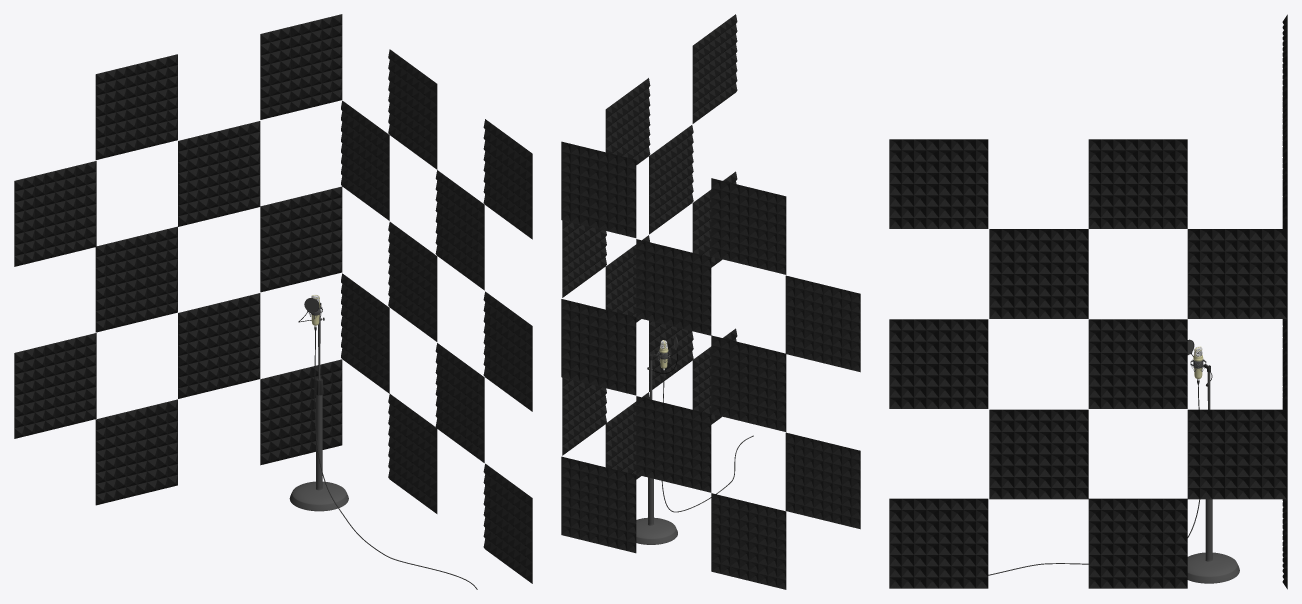
Rendered from studio_microphone.glb.
3 renders of one model, left to right at view 1: azimuth 30°, elevation 25°; view 2: azimuth 150°, elevation 25°; view 3: azimuth 270°, elevation 25°, orthographic. The views are drawn at different scales.
Visible parts, largest first — view 1: foam.003, foam.002, foam.004, foam.014, foam.015, foam.016, foam.017, foam.001, foam.005, foam, foam.007, foam.018 (+9 smaller); view 2: foam, foam.001, foam.003, foam.005, foam.002, foam.014, foam.015, foam.016, foam.017, foam.004, foam.019, foam.008 (+9 smaller); view 3: foam.010, foam.011, foam.013, foam.009, foam.006, foam.007, foam.008, foam.012, foam.018, foam.019, mic_stand_base, foam.016 (+2 smaller).
Part boxes in pixels (x1,y1,x2,y2): foam.003: (260, 186, 342, 292); foam.002: (95, 399, 177, 505); foam.004: (95, 226, 177, 332); foam.014: (14, 333, 96, 438); foam.015: (14, 161, 96, 266); foam.016: (260, 14, 342, 119); foam.017: (95, 54, 177, 159); foam.001: (178, 293, 260, 398); foam.005: (178, 121, 260, 226); foam: (260, 359, 342, 465); foam.007: (388, 222, 437, 341); foam.018: (388, 49, 437, 169); foam: (561, 456, 636, 553); foam.001: (636, 396, 711, 492); foam.003: (561, 299, 636, 395); foam.005: (636, 239, 711, 335); foam.002: (711, 493, 786, 589); foam.014: (785, 432, 860, 529); foam.015: (785, 275, 860, 372); foam.016: (561, 141, 636, 237); foam.017: (711, 178, 786, 274); foam.004: (711, 335, 786, 431); foam.019: (692, 14, 737, 123); foam.008: (649, 125, 693, 234); foam.010: (989, 409, 1088, 499); foam.011: (1088, 498, 1187, 588); foam.013: (889, 498, 988, 588); foam.009: (1187, 409, 1286, 499); foam.006: (1187, 229, 1286, 318); foam.007: (1088, 319, 1187, 408); foam.008: (989, 229, 1088, 318); foam.012: (889, 319, 988, 408); foam.018: (1088, 139, 1187, 228); foam.019: (889, 139, 988, 228); mic_stand_base: (1187, 372, 1239, 583); foam.016: (1282, 98, 1287, 228).
Bounding box in the file's own units: 2.66 × 3.43 × 2.68.
Materials: 9 (1 with a texture image).
